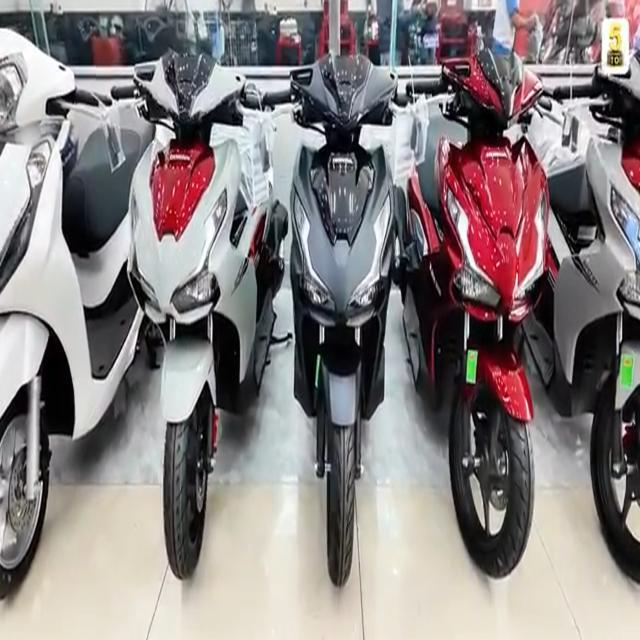motorcycle: (396, 35, 590, 581), (103, 42, 267, 583), (269, 42, 421, 586), (0, 18, 136, 599), (545, 53, 640, 591)
